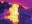Hotspot: (4, 4, 18, 23)
